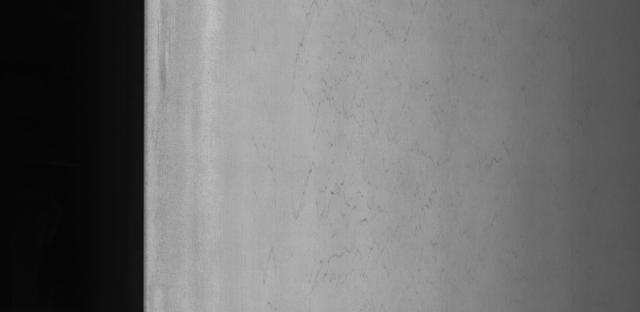silk_spot: (277, 0, 428, 279)
